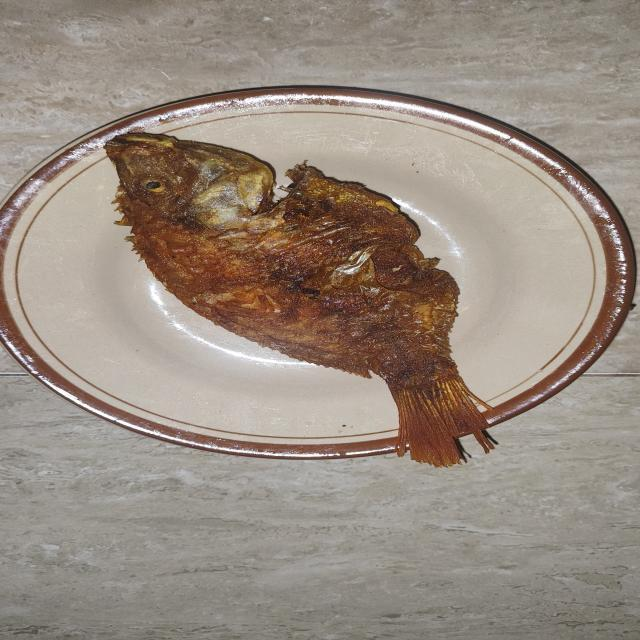ikan_mujair: (104, 132, 497, 466)
